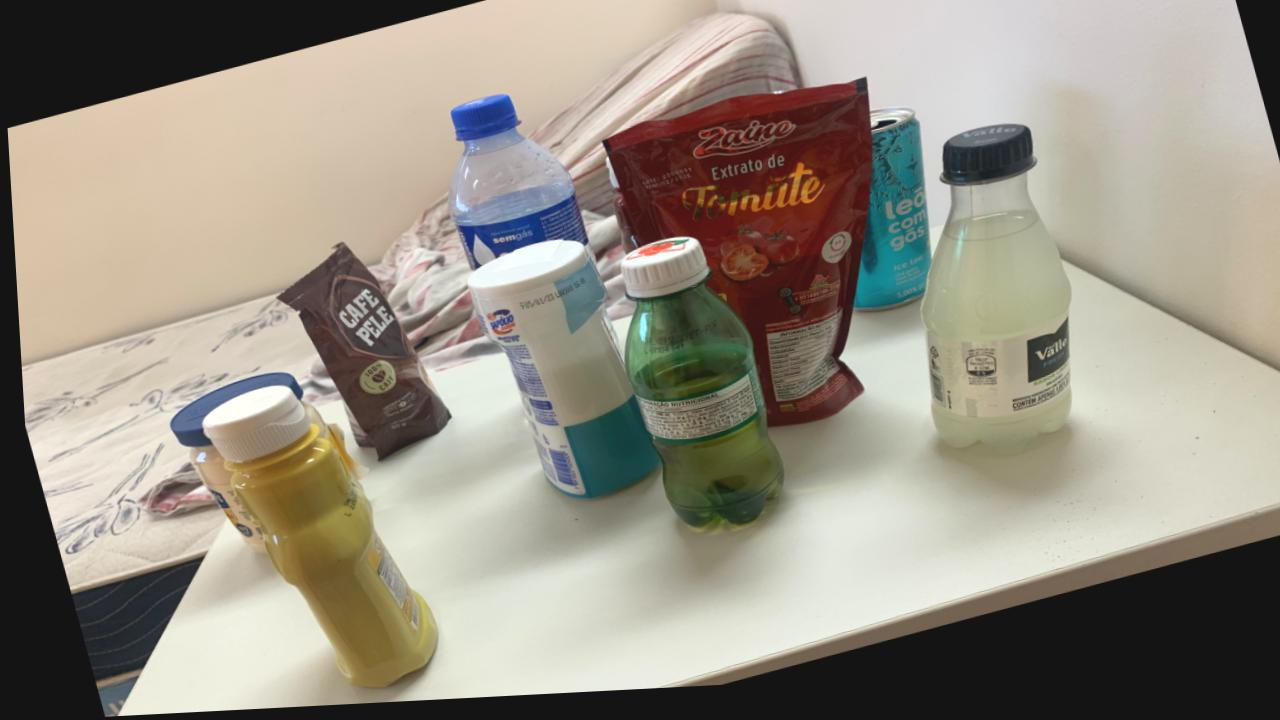Cleaner-Cleanup_Items: (463, 245, 653, 505)
Coffee-Pantry_Items: (274, 247, 445, 462)
Guarana-Drinks: (618, 243, 778, 534)
Mayonnaise-Pantry_Items: (164, 374, 298, 555)
Mustard-Pantry_Items: (196, 387, 430, 691)
Soda-Drinks: (916, 135, 1067, 462)
Tea-Drinks: (850, 117, 928, 320)
Tomato_Sauce-Pantry_Items: (601, 88, 870, 434)
Water_Bottle-Drinks: (444, 100, 585, 274)
